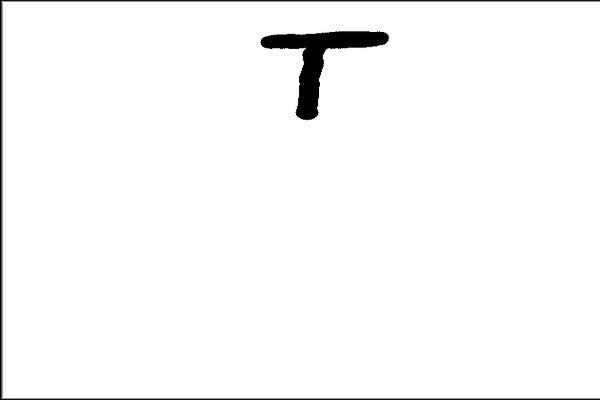T: (256, 20, 394, 124)
